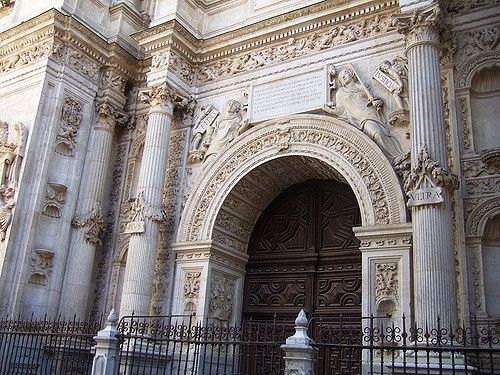arco-medio-punto: (202, 147, 375, 258)
